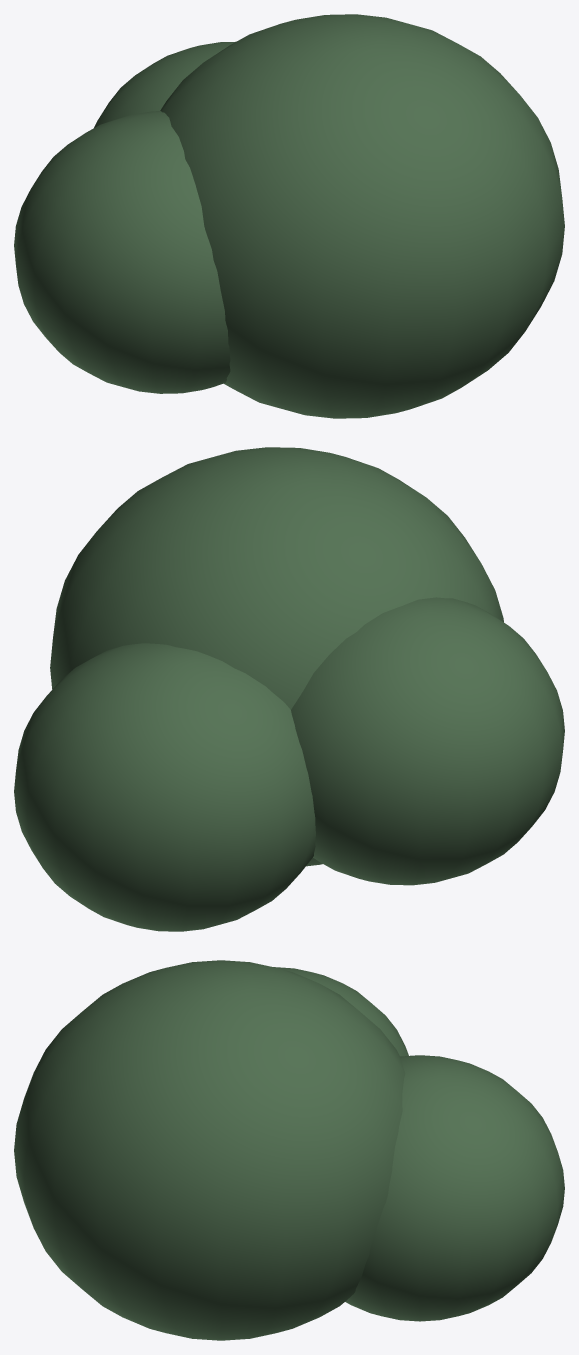
Rendered from Bush 1.fbx.
The picture shows the model from 3 angles, top to bottom: view 1: azimuth 30°, elevation 25°; view 2: azimuth 150°, elevation 25°; view 3: azimuth 270°, elevation 25°; orthographic projection. The views are drawn at different scales.
Visible parts, largest first — view 1: pSphere12, pSphere14, pSphere13; view 2: pSphere12, pSphere13, pSphere14; view 3: pSphere12, pSphere13, pSphere14.
Boxes of the visible parts, x1=… form: pSphere12: x1=160, y1=14, x2=564, y2=418; pSphere14: x1=14, y1=111, x2=230, y2=393; pSphere13: x1=94, y1=41, x2=235, y2=127; pSphere12: x1=50, y1=447, x2=503, y2=866; pSphere13: x1=14, y1=643, x2=315, y2=931; pSphere14: x1=291, y1=597, x2=564, y2=885; pSphere12: x1=14, y1=960, x2=405, y2=1340; pSphere13: x1=345, y1=1055, x2=564, y2=1321; pSphere14: x1=273, y1=967, x2=408, y2=1056.
Size of the model in its own units: 6.22 by 4.5 by 6.65.
